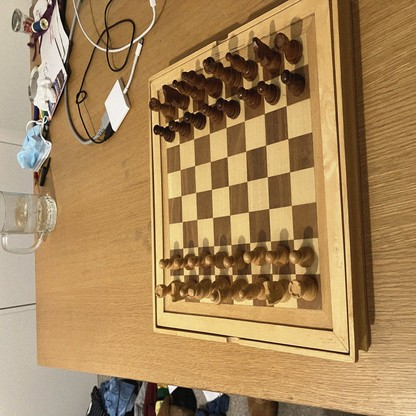bishop_black: (226, 52, 258, 80), (173, 80, 205, 102)
bishop_white: (239, 284, 258, 299), (181, 279, 196, 297)
king_black: (181, 71, 222, 98)
king_white: (187, 279, 211, 299)
knight_black: (253, 37, 278, 72), (163, 84, 190, 110)
knight_white: (263, 280, 291, 305), (171, 280, 196, 303)
pawn_black: (282, 72, 305, 95), (258, 83, 280, 104), (217, 98, 240, 118), (237, 88, 261, 107), (201, 103, 222, 122), (184, 112, 206, 130), (153, 125, 176, 141), (169, 120, 190, 135)
pawn_white: (289, 247, 315, 267), (266, 245, 289, 265), (243, 247, 267, 266), (224, 251, 245, 270), (189, 250, 211, 266), (159, 254, 182, 269), (206, 251, 227, 267), (174, 254, 194, 268)
queen_black: (203, 57, 241, 88)
queen_white: (210, 279, 247, 305)
rock_black: (275, 34, 303, 64), (150, 97, 174, 118)
rock_white: (289, 277, 318, 301), (156, 281, 174, 297)
